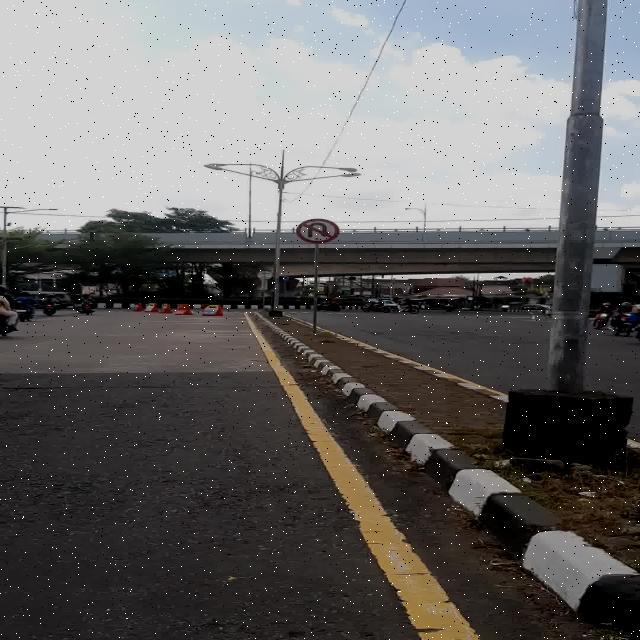Dilarang Putar Balik: (296, 218, 340, 243)
